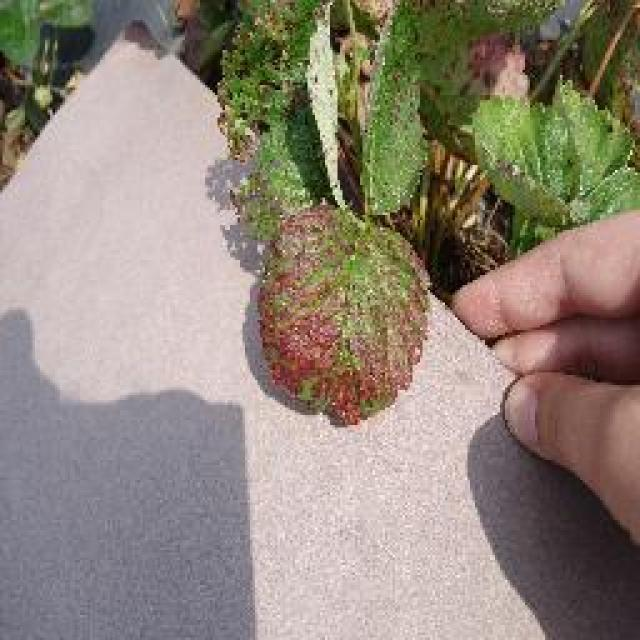Strawberry leaf scorch: (285, 227, 410, 400)
